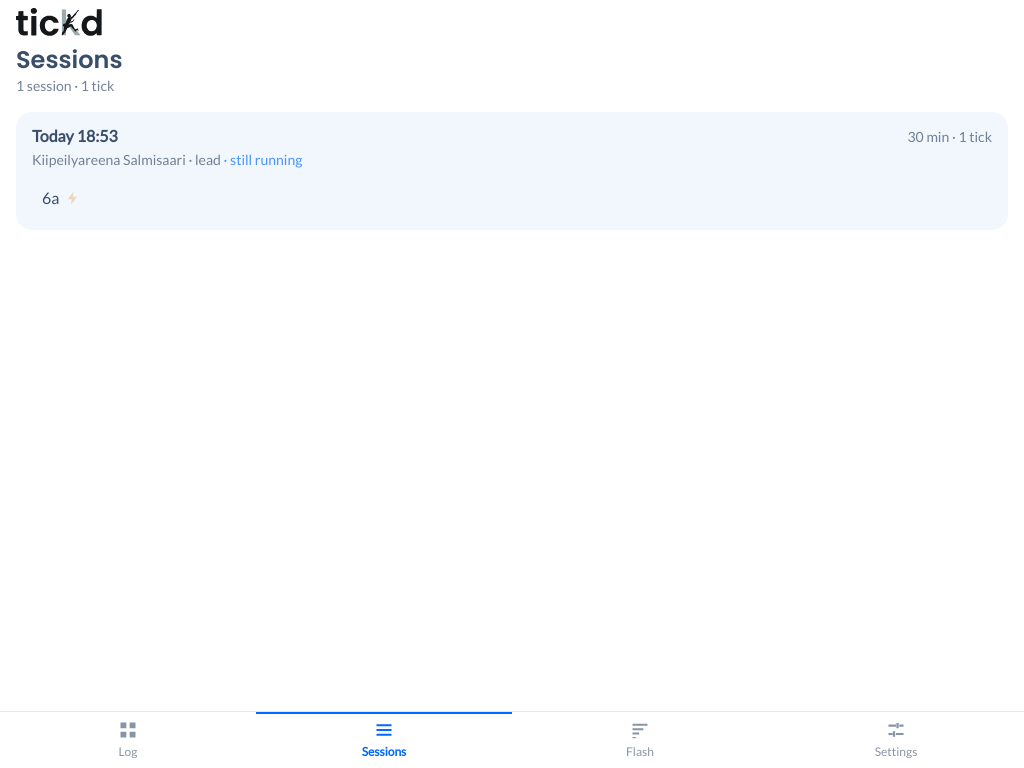
Test: opening a session › sends the open session back to logging instead
Expected: the element that starts with "Sessions" is shown, [16, 43, 1008, 230]
What coordinates should you click on to do the following:
click the link that starts with "Today"
I would click on:
 (53, 136)
Its box is [16, 112, 1008, 230].
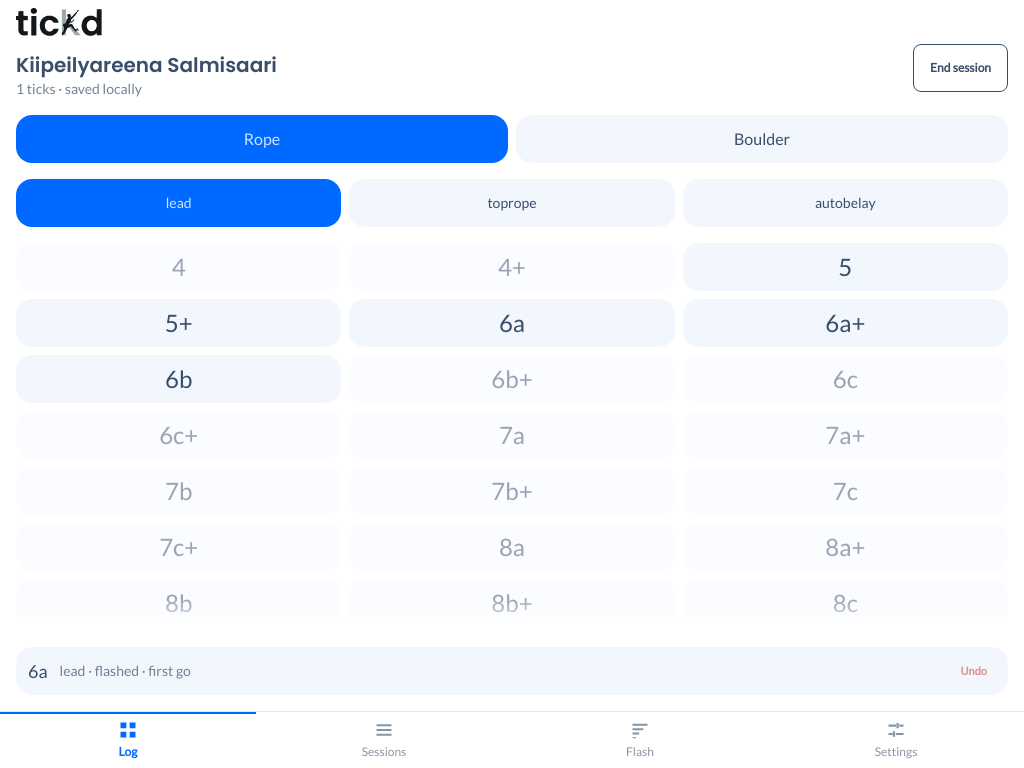
Expected: the button "End session" is shown, [913, 44, 1008, 92]
